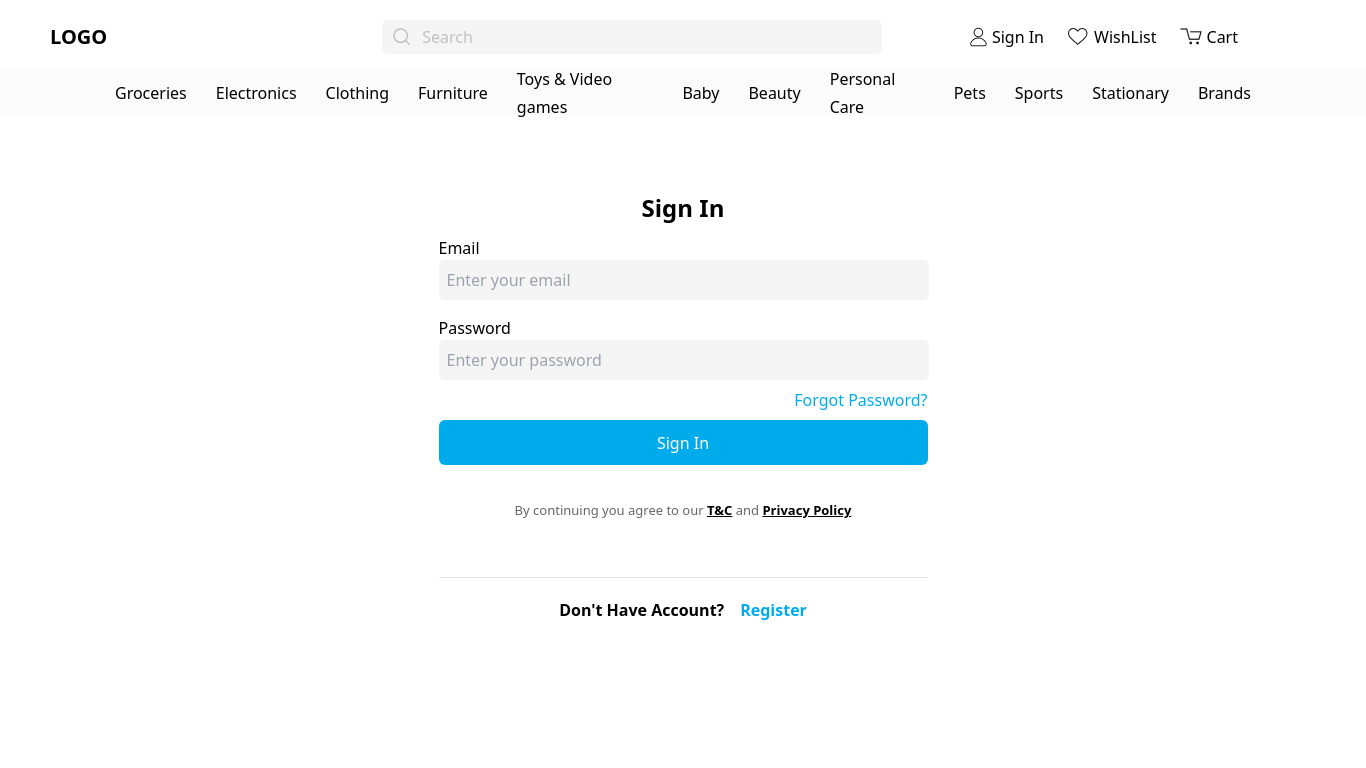
Test: Authentication › should display error message when password is empty
Type "your-email@example.com" into the field with id "email" at (684, 280), box [439, 260, 929, 300]
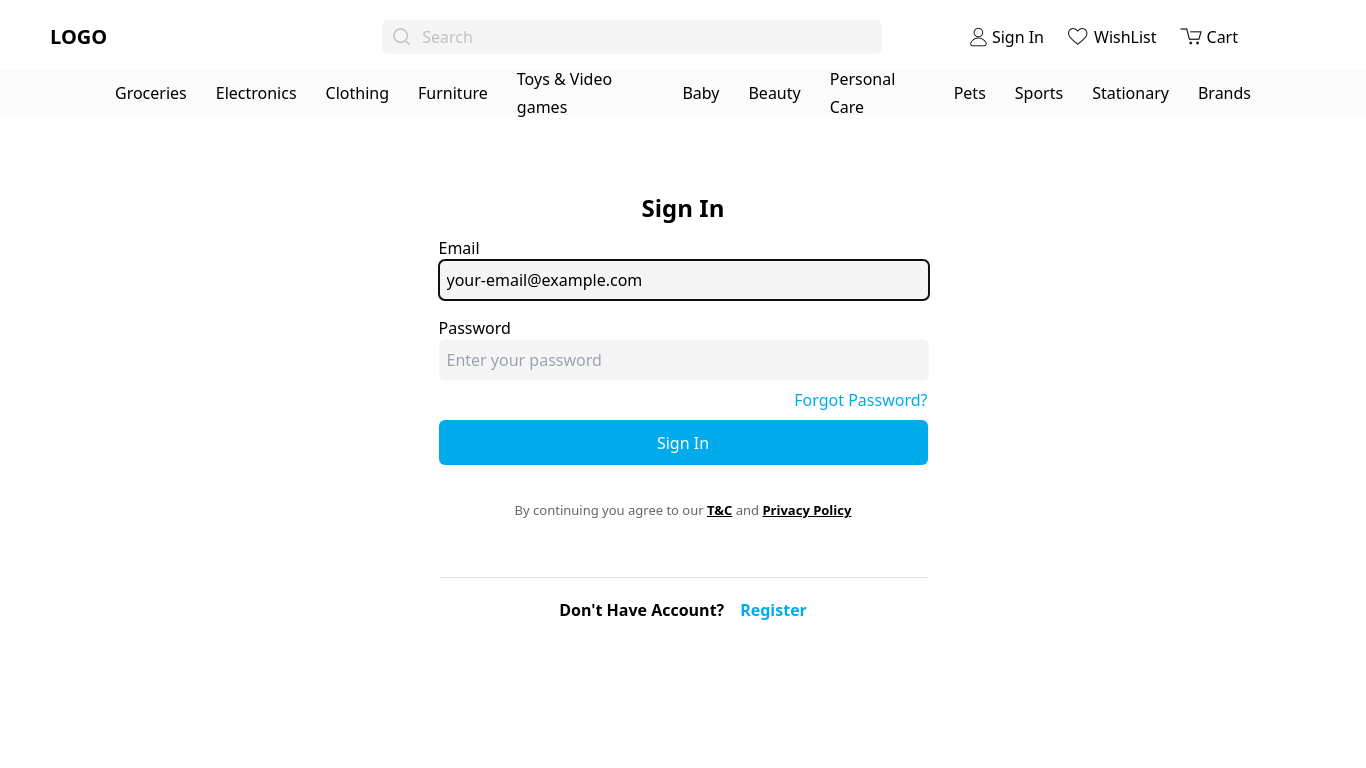
Click the button with id "sign-in-btn" at (684, 443), box [439, 420, 928, 465]
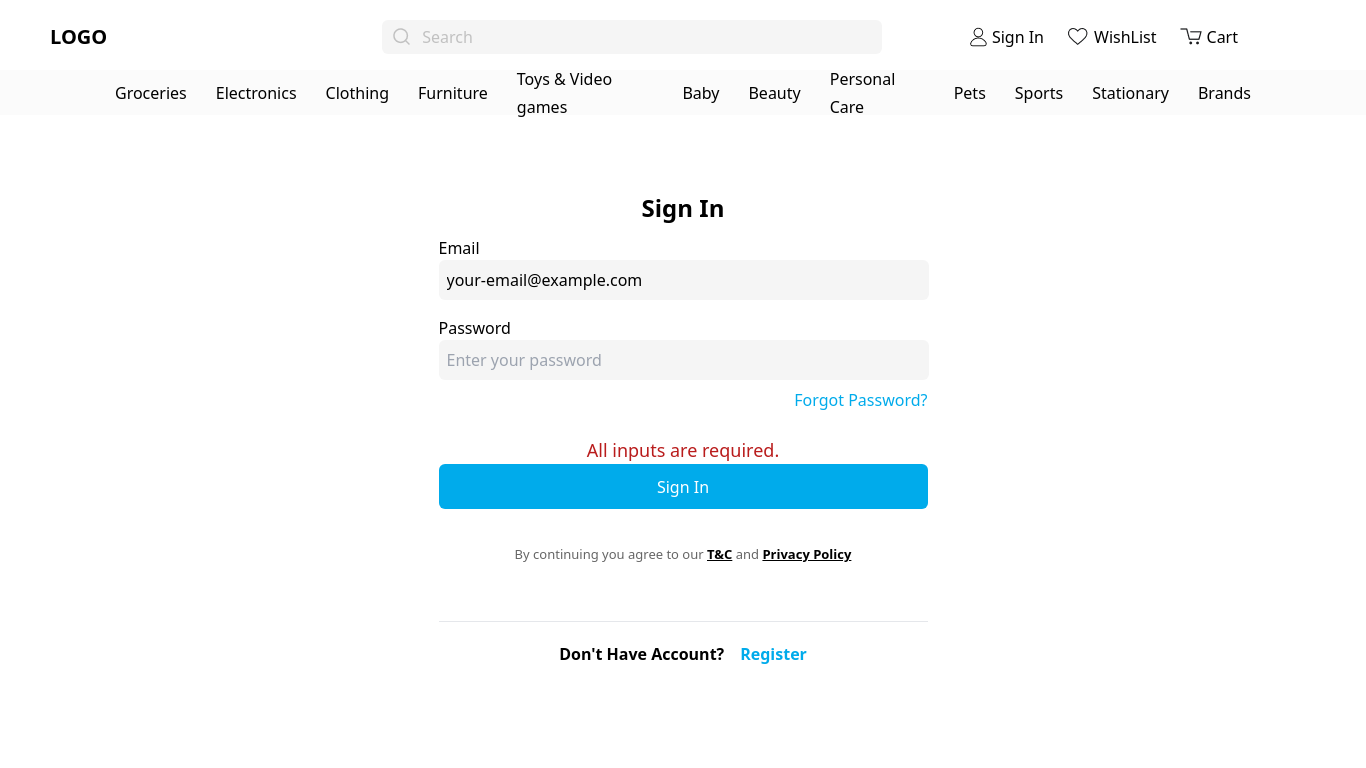
Result: the text "All inputs are required." is shown at [587, 438, 779, 462]
